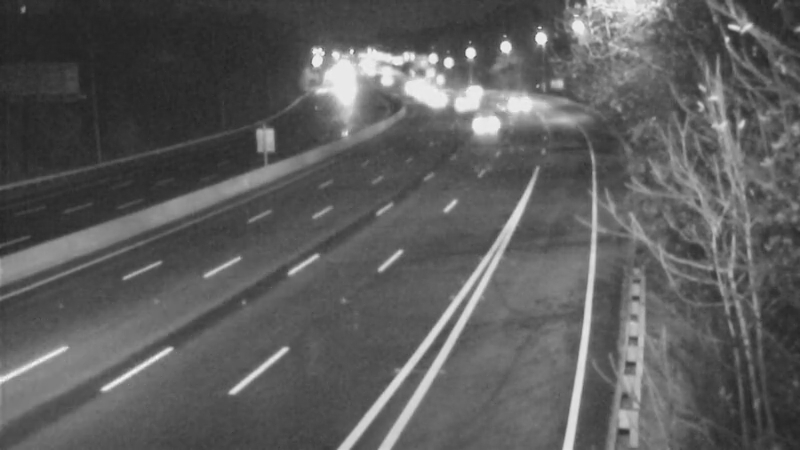vehicle: (458, 64, 508, 114), (439, 78, 489, 128), (483, 72, 533, 122), (457, 96, 507, 146)
